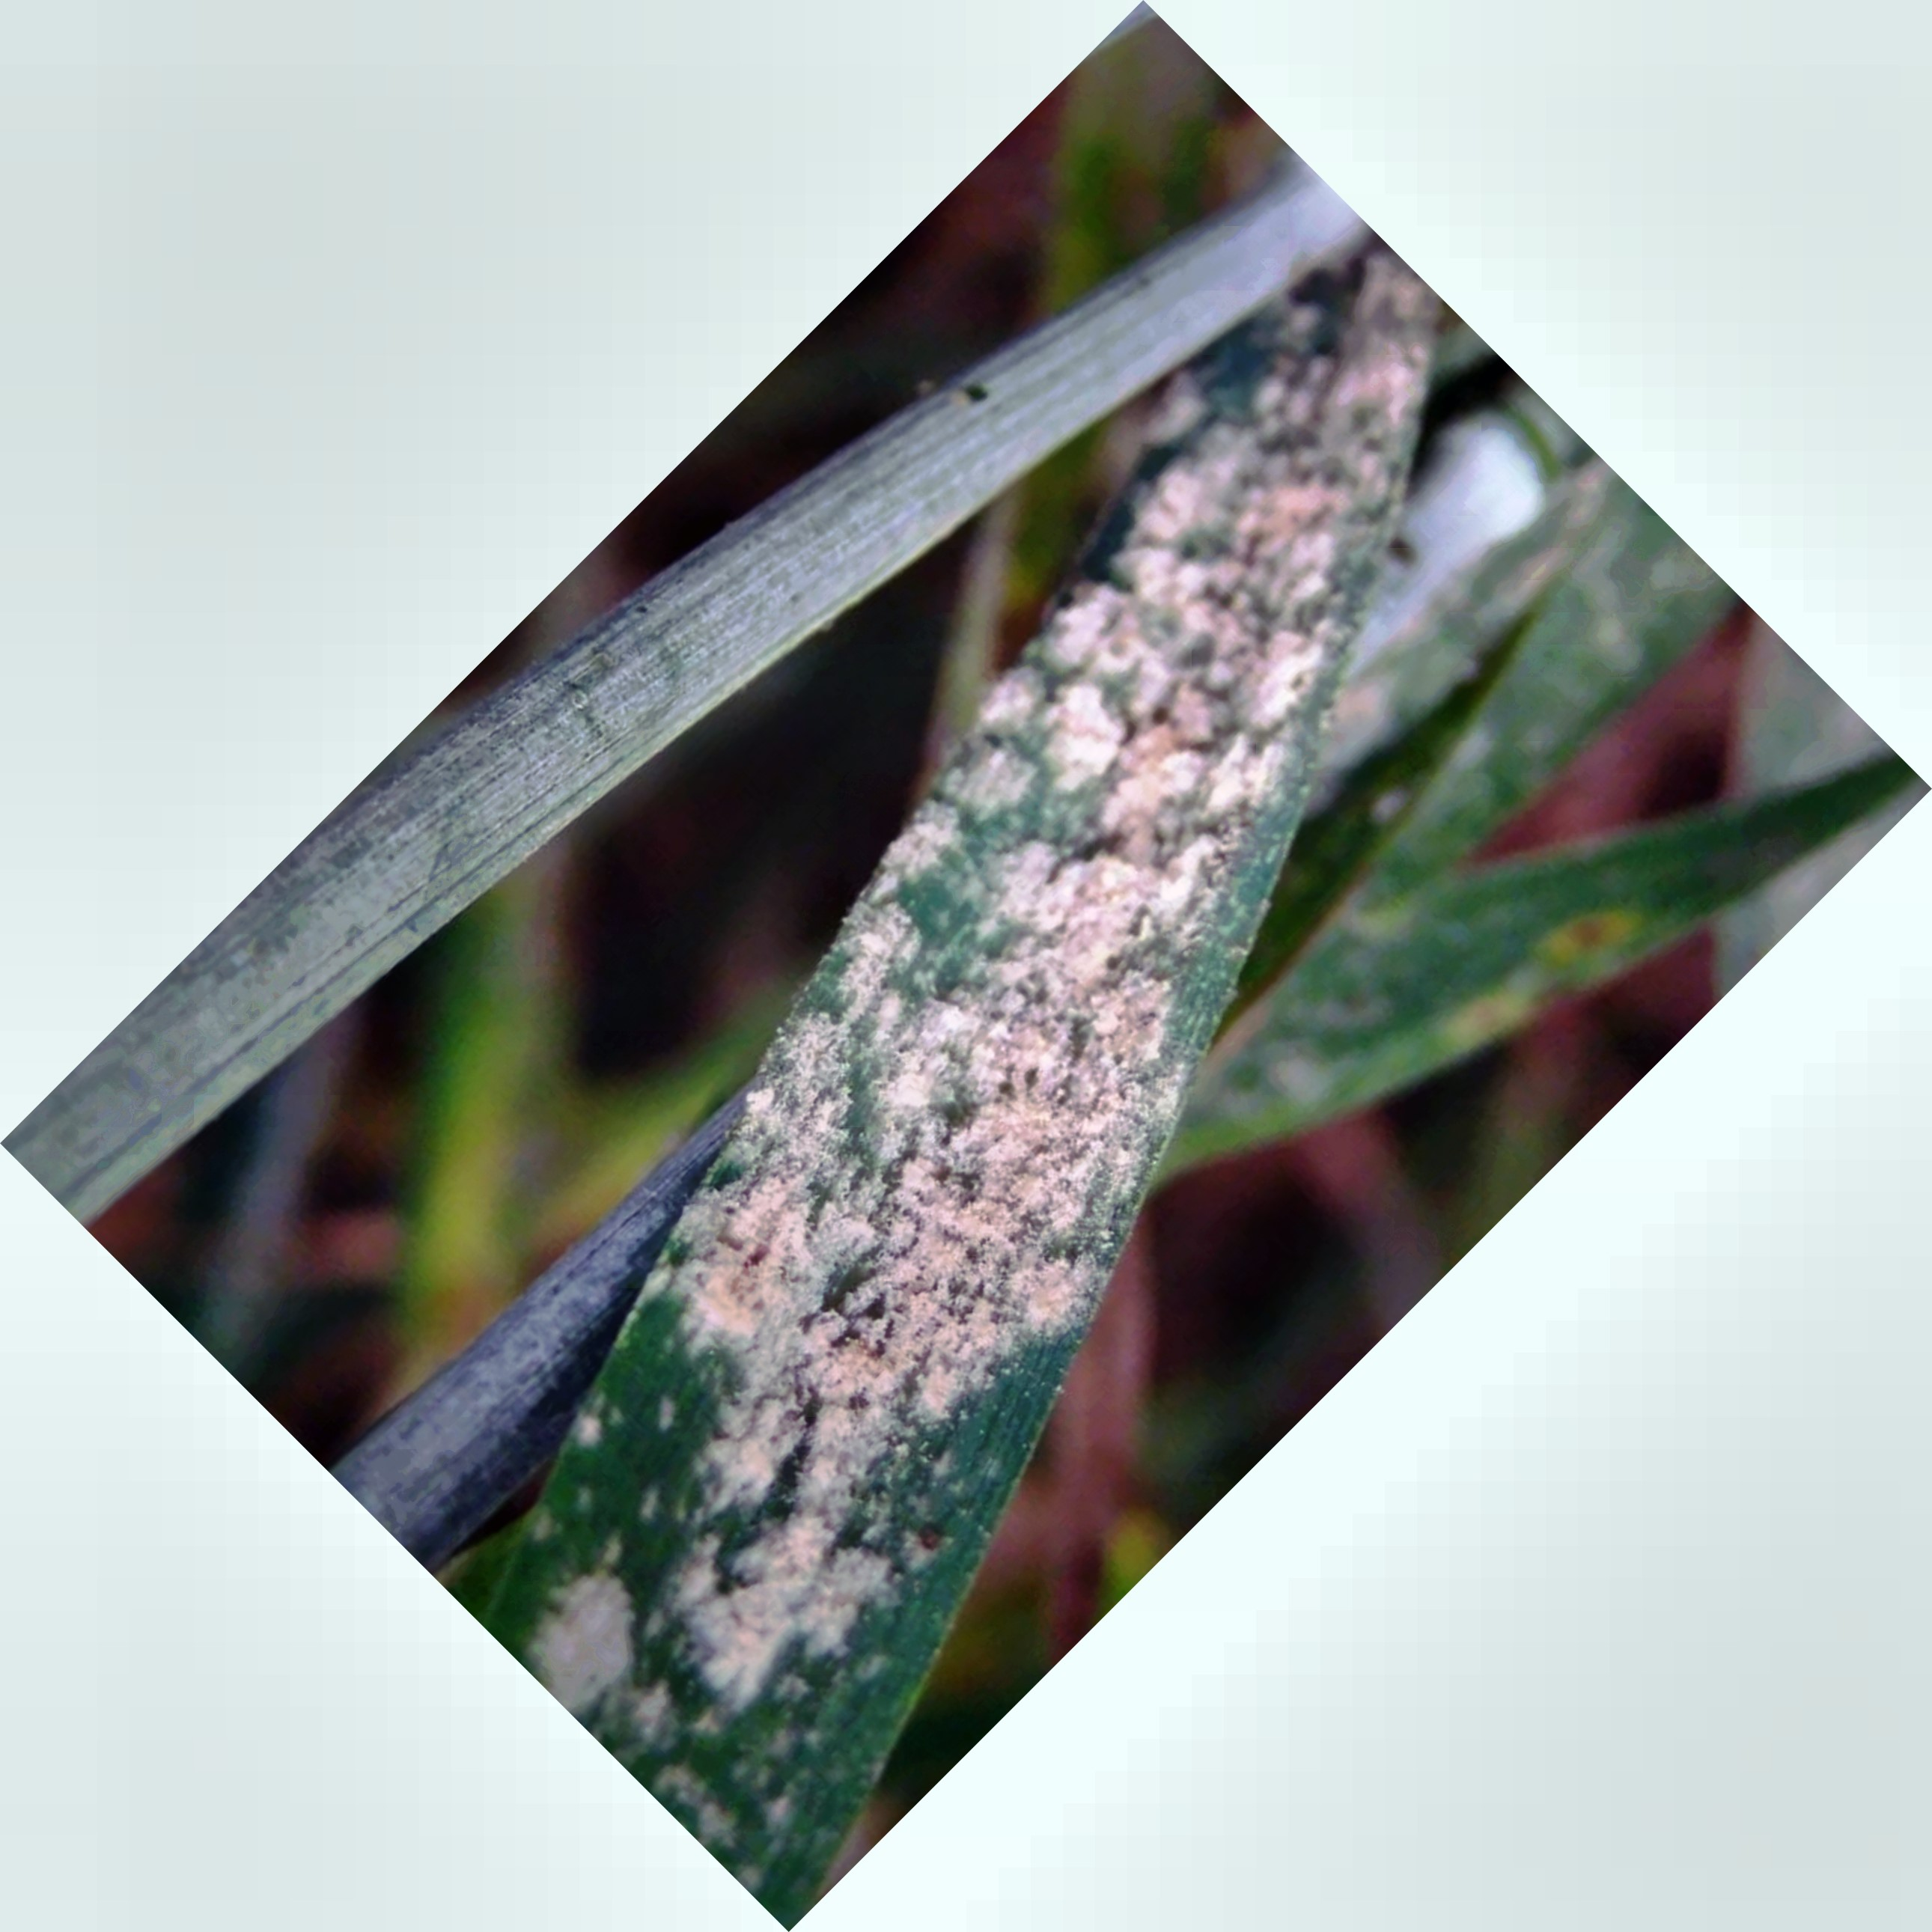Powdery Mildew: (640, 541, 1345, 1573)
